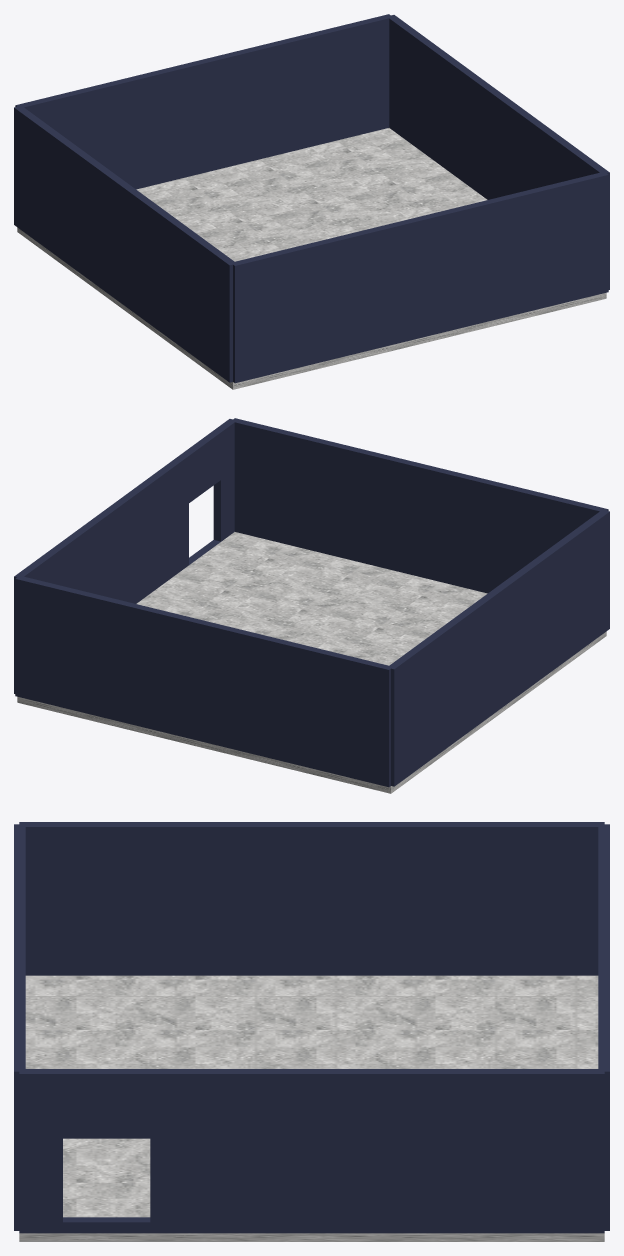
The model's file is studycafe(map).dae.
3 renders of one model, top to bottom at view 1: azimuth 30°, elevation 25°; view 2: azimuth 150°, elevation 25°; view 3: azimuth 270°, elevation 25°, orthographic. The views are drawn at different scales.
Parts seen in each view (by area): view 1: wall4, wall2, floor, wall3, wall1; view 2: wall2, wall4, floor, wall3, wall1; view 3: wall1, wall3, floor, wall4, wall2.
Part boxes in pixels (x1,y1,x2,y2): wall4: [233, 172, 608, 383]; wall2: [15, 14, 390, 189]; floor: [17, 128, 606, 389]; wall3: [14, 106, 236, 382]; wall1: [387, 15, 609, 289]; wall2: [15, 576, 391, 787]; wall4: [233, 418, 608, 593]; floor: [17, 532, 606, 793]; wall3: [387, 510, 609, 786]; wall1: [14, 419, 236, 693]; wall1: [19, 1069, 604, 1233]; wall3: [19, 822, 604, 975]; floor: [19, 975, 604, 1241]; wall4: [14, 824, 25, 1230]; wall2: [598, 824, 609, 1230].
Size of the model in its own units: 20.41 by 20.41 by 6.42.
Materials: 5 (5 with a texture image).
